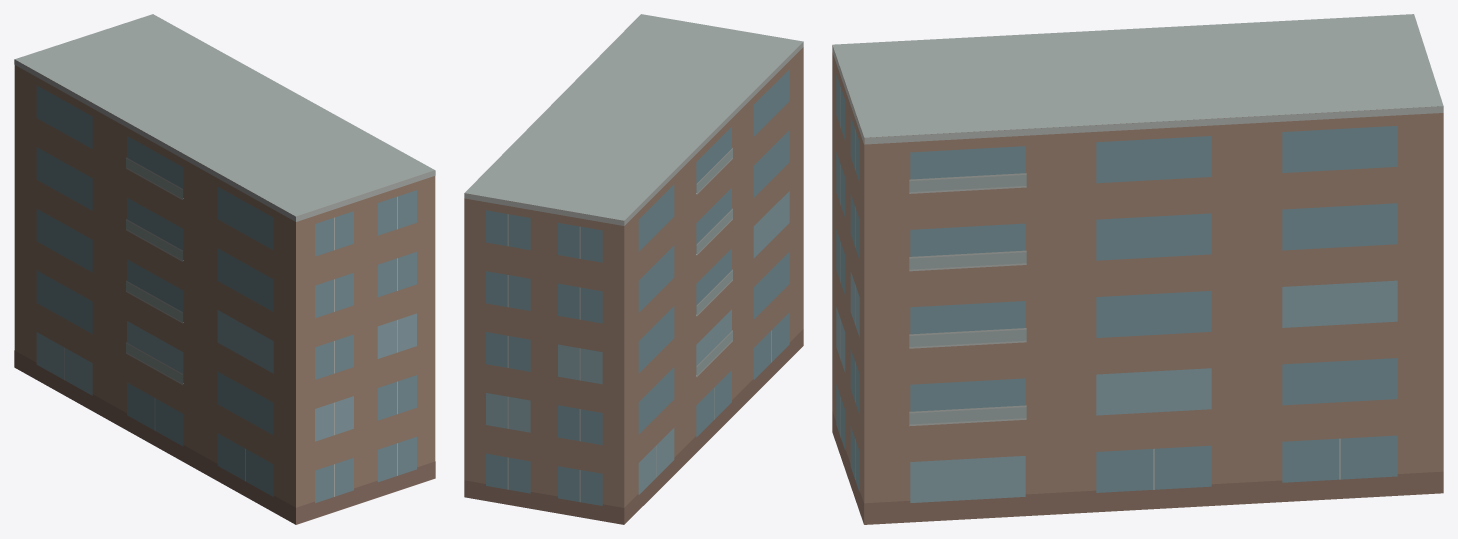
Rendered from survey-upis-32531900.glb.
3 renders of one model, left to right at view 1: azimuth 30°, elevation 25°; view 2: azimuth 150°, elevation 25°; view 3: azimuth 270°, elevation 25°, orthographic. The views are drawn at different scales.
Parts seen in each view (by area): view 1: survey-upis-32531900.tmp; view 2: survey-upis-32531900.tmp; view 3: survey-upis-32531900.tmp.
Part boxes in pixels (x1=…): survey-upis-32531900.tmp: x1=14, y1=14, x2=435, y2=524; survey-upis-32531900.tmp: x1=464, y1=14, x2=803, y2=524; survey-upis-32531900.tmp: x1=832, y1=14, x2=1443, y2=524.
Bounding box in the file's own units: 9.54 × 13.9 × 19.9.
